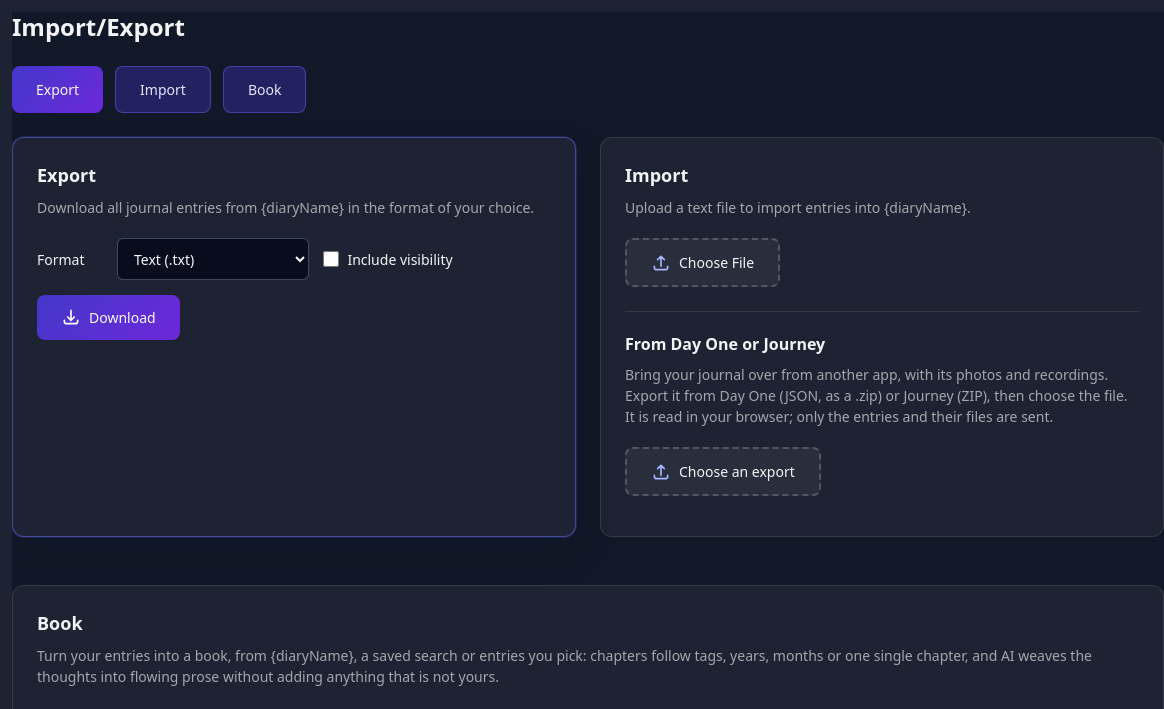
Test: ImportExport refusals › shows the reason a refused export gives, in en
Click the button "Download" at (108, 317), box 37,295 -> 180,340
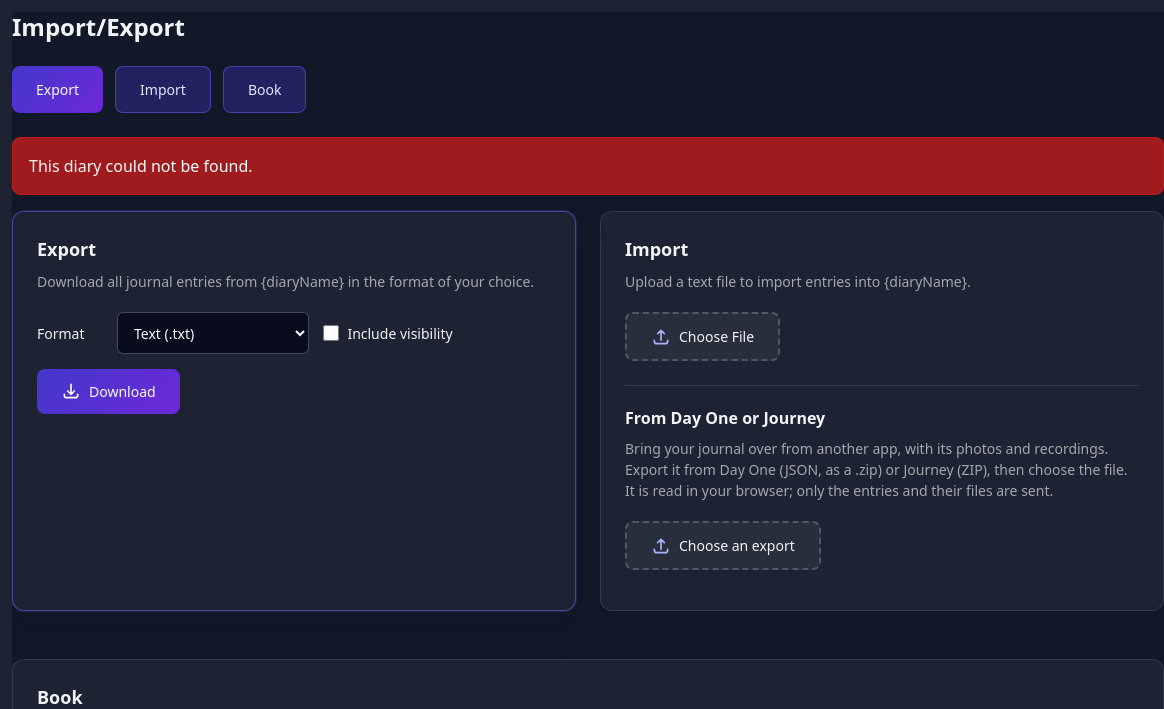
Expected: the text "This diary could not be found." is shown, 12,137 -> 1163,195
